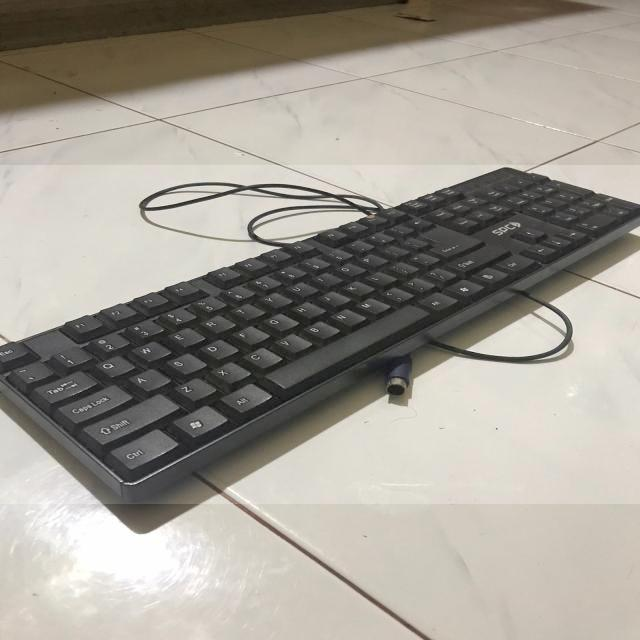-mouse-: (0, 165, 640, 504)
